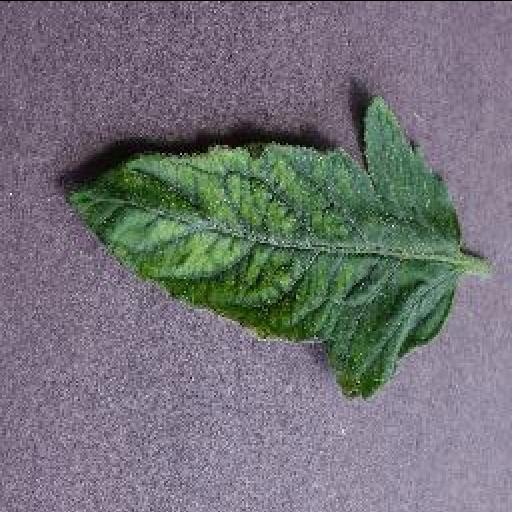Mosaic Virus: (62, 83, 462, 401)
